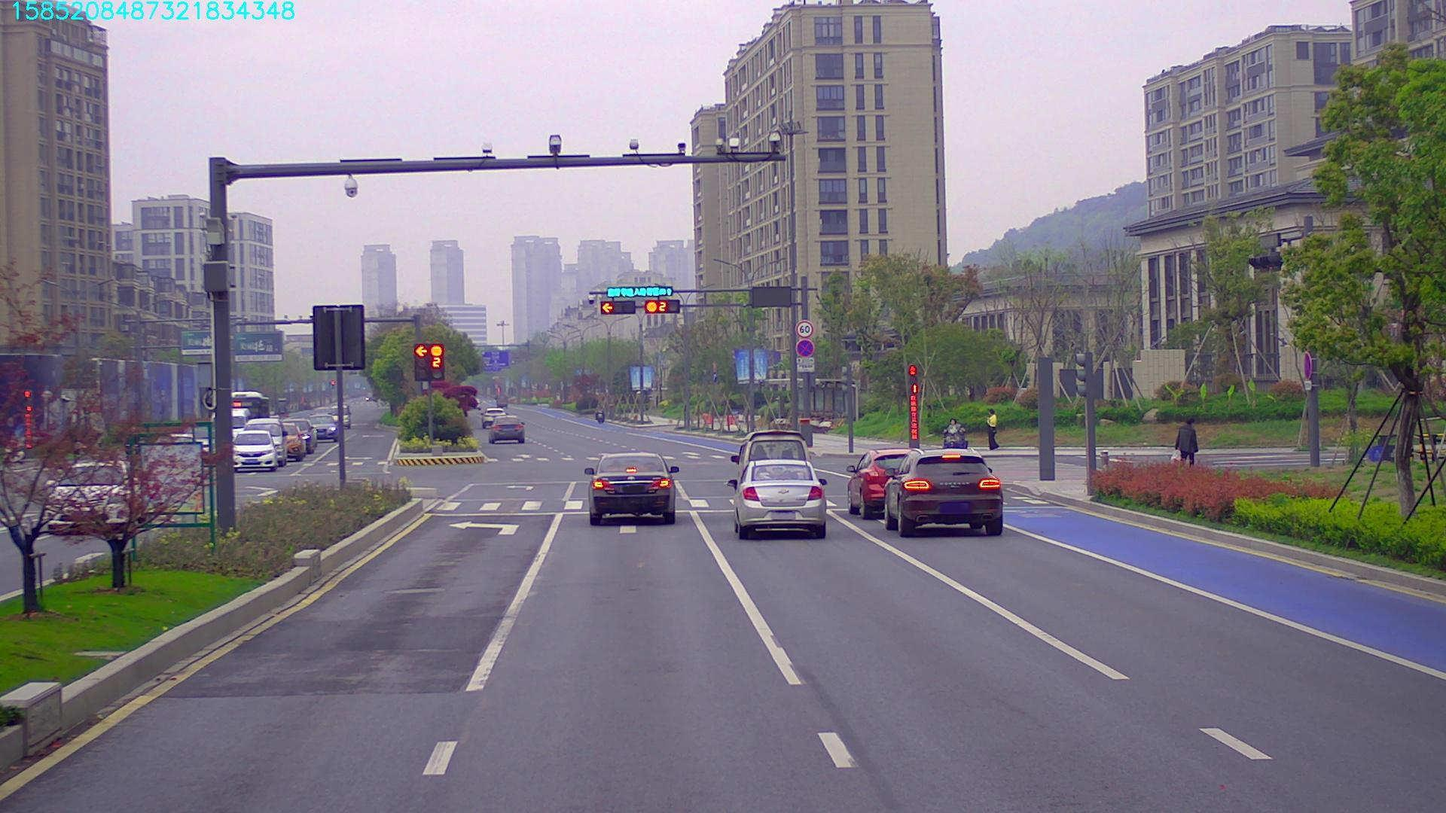red: (644, 299, 682, 312), (602, 302, 636, 315)
wait_on: (609, 282, 678, 299)
